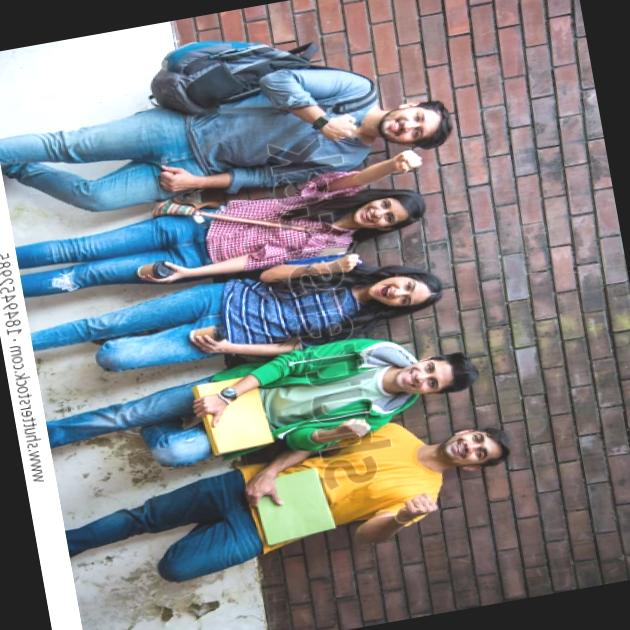notebook: (220, 435, 343, 558)
there is a person: (251, 9, 446, 184), (299, 322, 470, 430), (289, 236, 452, 338), (352, 412, 516, 508), (280, 163, 425, 252)
